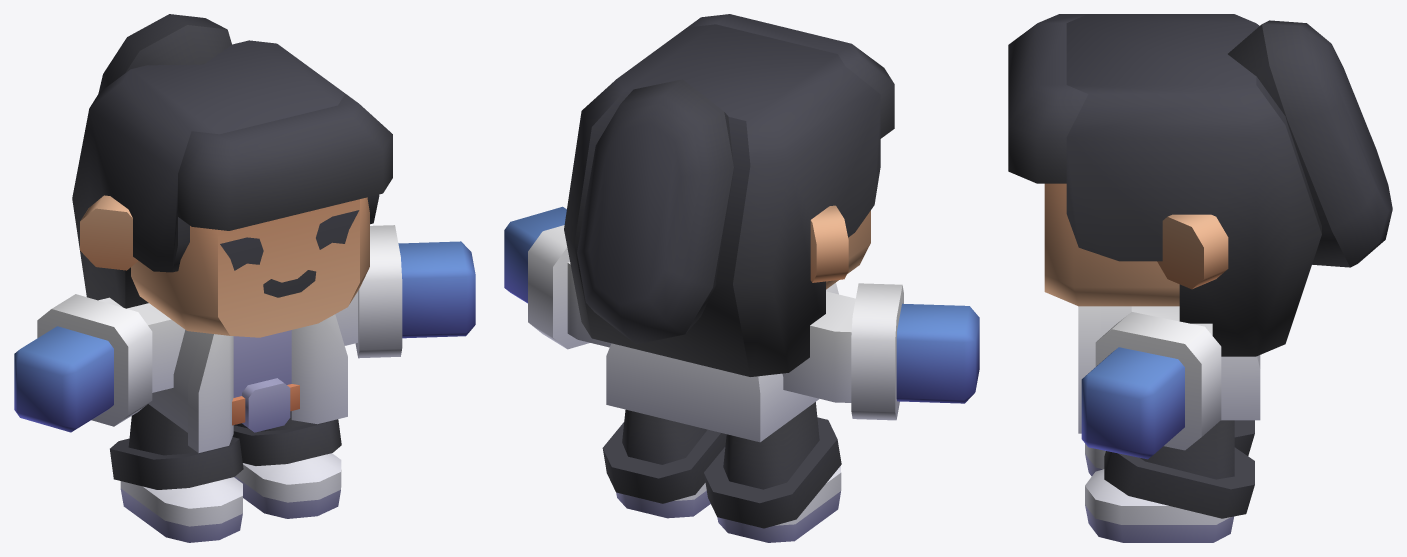
File: character-female-e.obj
The picture shows the model from 3 angles, left to right: view 1: azimuth 30°, elevation 25°; view 2: azimuth 150°, elevation 25°; view 3: azimuth 270°, elevation 25°; orthographic projection. The views are drawn at different scales.
Parts seen in each view (by area): view 1: head-mesh, body-mesh; view 2: head-mesh, body-mesh; view 3: head-mesh, body-mesh.
Boxes of the visible parts, <box> form: head-mesh: <box>72,14,392,337</box>; body-mesh: <box>14,225,475,542</box>; head-mesh: <box>564,14,894,376</box>; body-mesh: <box>504,206,979,542</box>; head-mesh: <box>1008,14,1392,356</box>; body-mesh: <box>1078,306,1260,542</box>.
Bounding box in the file's own units: 0.7672 × 0.7165 × 0.5271.
1 material, 1 textured.
